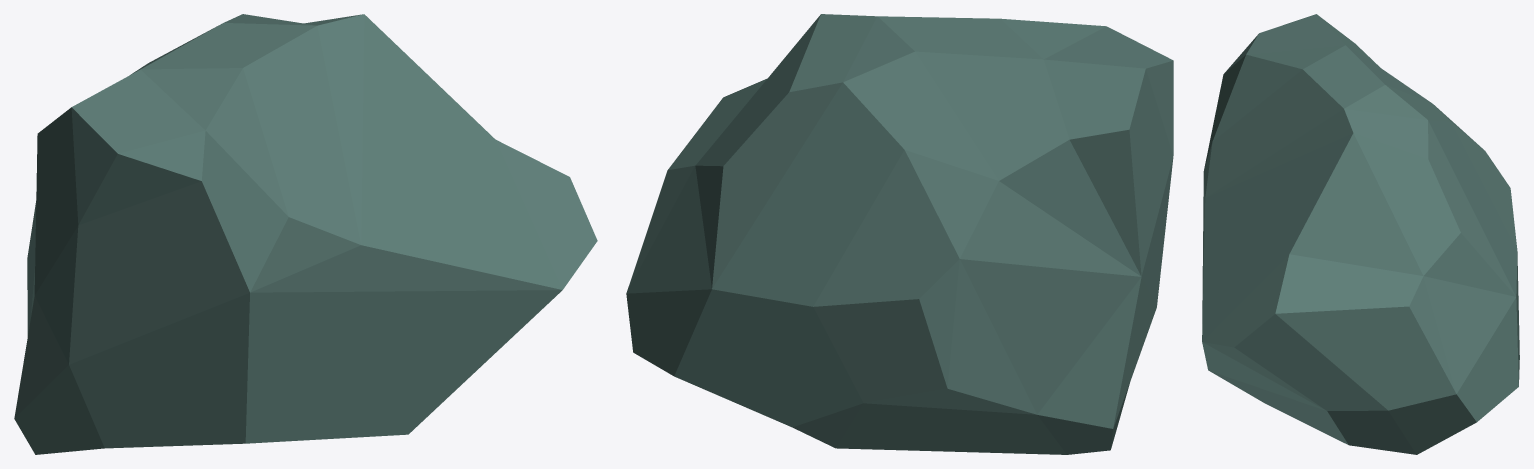
3 views of the same model, side by side, from view 1: azimuth 30°, elevation 25°; view 2: azimuth 150°, elevation 25°; view 3: azimuth 270°, elevation 25° (orthographic). The views are drawn at different scales.
Parts seen in each view (by area): view 1: 石头7; view 2: 石头7; view 3: 石头7.
Part boxes in pixels (left/top/right/bottom): 石头7: left=14, top=14, right=597, bottom=454; 石头7: left=626, top=14, right=1173, bottom=454; 石头7: left=1202, top=14, right=1519, bottom=454.
Bounding box in the file's own units: 82.89 × 63.23 × 61.59.
